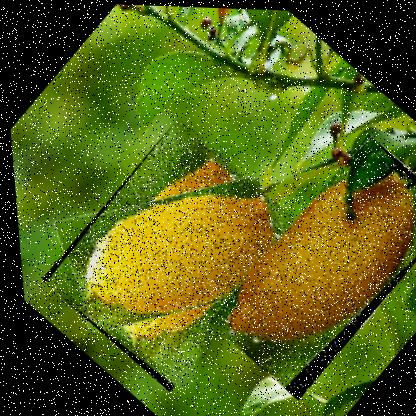lemon: (24, 111, 314, 396), (189, 126, 415, 406)
